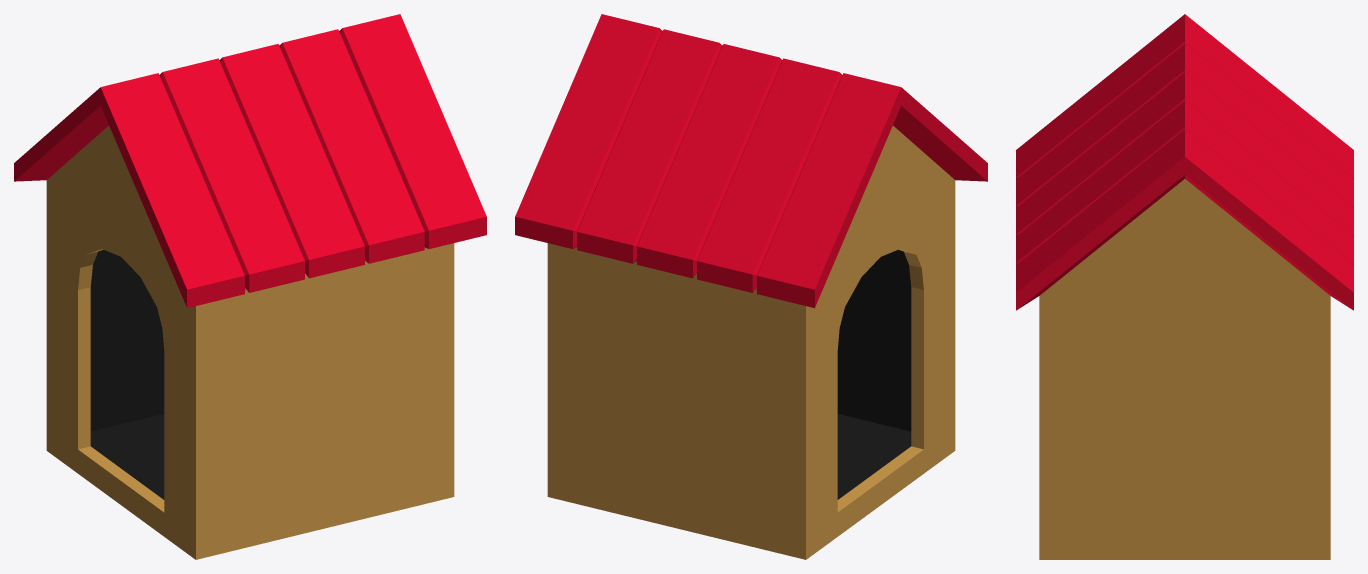
The model's file is DogHouse01.fbx.
The picture shows the model from 3 angles, left to right: view 1: azimuth 30°, elevation 25°; view 2: azimuth 150°, elevation 25°; view 3: azimuth 270°, elevation 25°; orthographic projection. The views are drawn at different scales.
Visible parts, largest first — view 1: DogHouse; view 2: DogHouse; view 3: DogHouse.
Part boxes in pixels (bbox=[...]): DogHouse: bbox=[14, 14, 486, 559]; DogHouse: bbox=[515, 14, 987, 559]; DogHouse: bbox=[1016, 14, 1353, 559].
Size of the model in its own units: 86.46 by 117 by 86.46.
